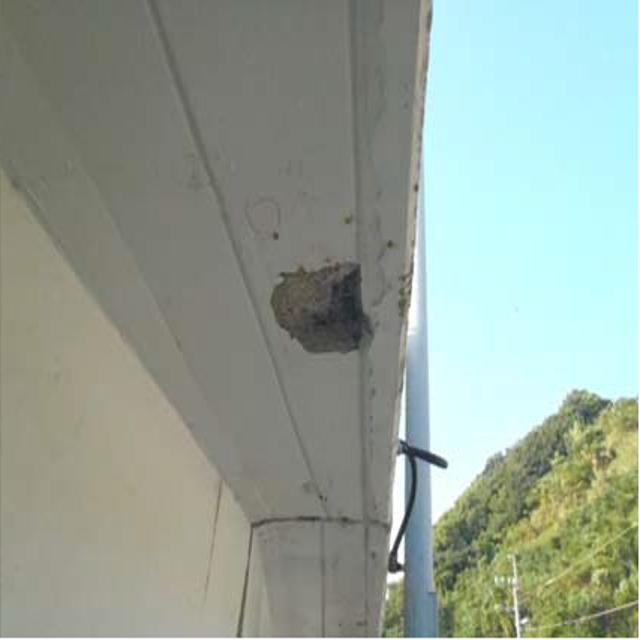spalling: (266, 246, 376, 364)
